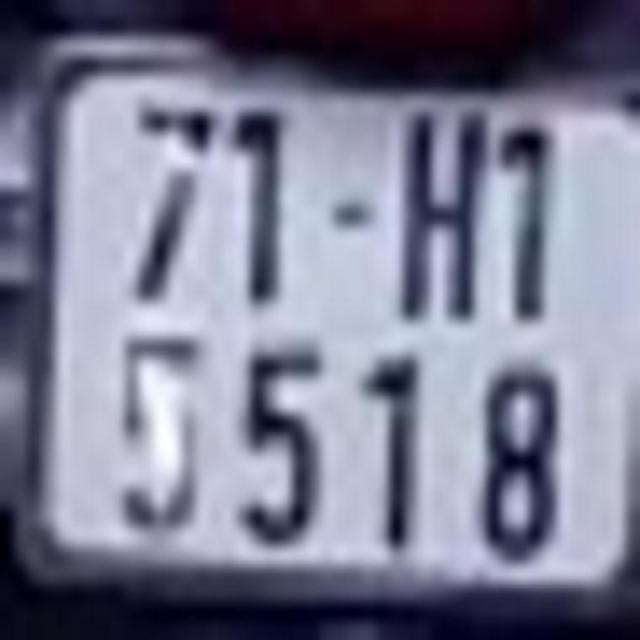1: (480, 352, 560, 563), (362, 339, 423, 556), (228, 101, 286, 302), (499, 126, 554, 324)
5: (115, 322, 208, 536), (245, 335, 331, 550)
7: (126, 95, 207, 300)
H: (404, 111, 478, 316)
